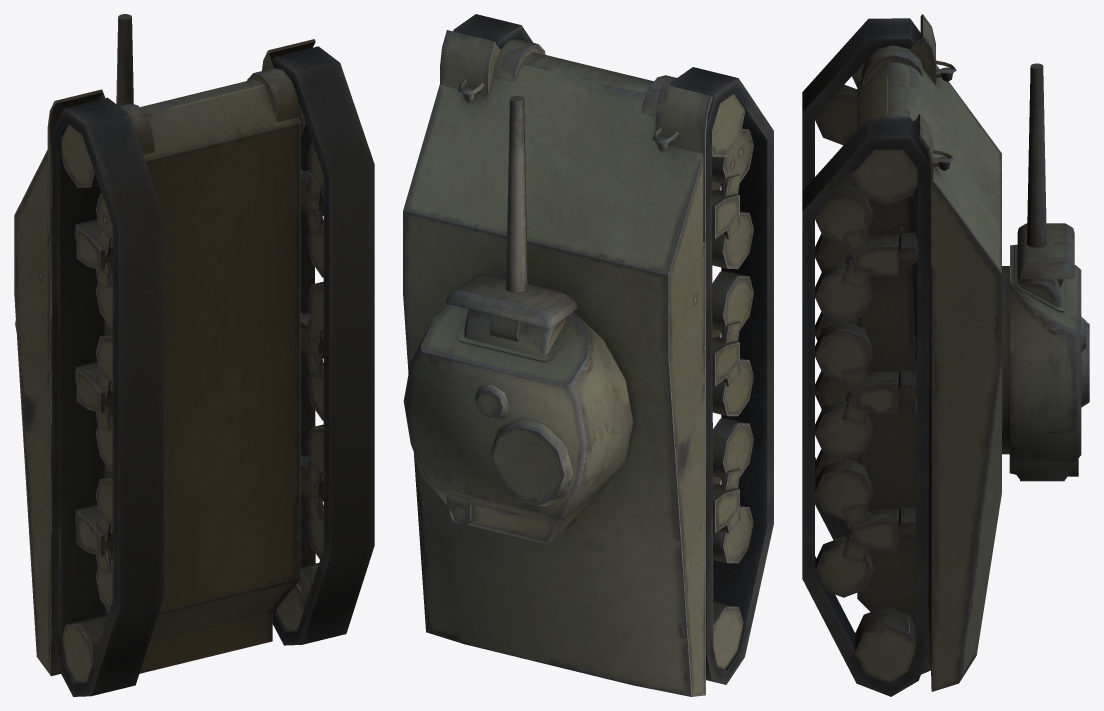
3 renders of one model, left to right at view 1: azimuth 30°, elevation 25°; view 2: azimuth 150°, elevation 25°; view 3: azimuth 270°, elevation 25°, orthographic. The views are drawn at different scales.
Parts seen in each view (by area): view 1: M4A3, M4A3 Turret; view 2: M4A3, M4A3 Turret; view 3: M4A3, M4A3 Turret.
Part boxes in pixels (x1,y1,x2,y2): M4A3: [14, 39, 374, 696]; M4A3 Turret: [15, 14, 133, 331]; M4A3: [403, 14, 773, 696]; M4A3 Turret: [403, 96, 633, 543]; M4A3: [802, 14, 1001, 696]; M4A3 Turret: [1002, 63, 1089, 481].
Bounding box in the file's own units: 109 × 241 × 109.
